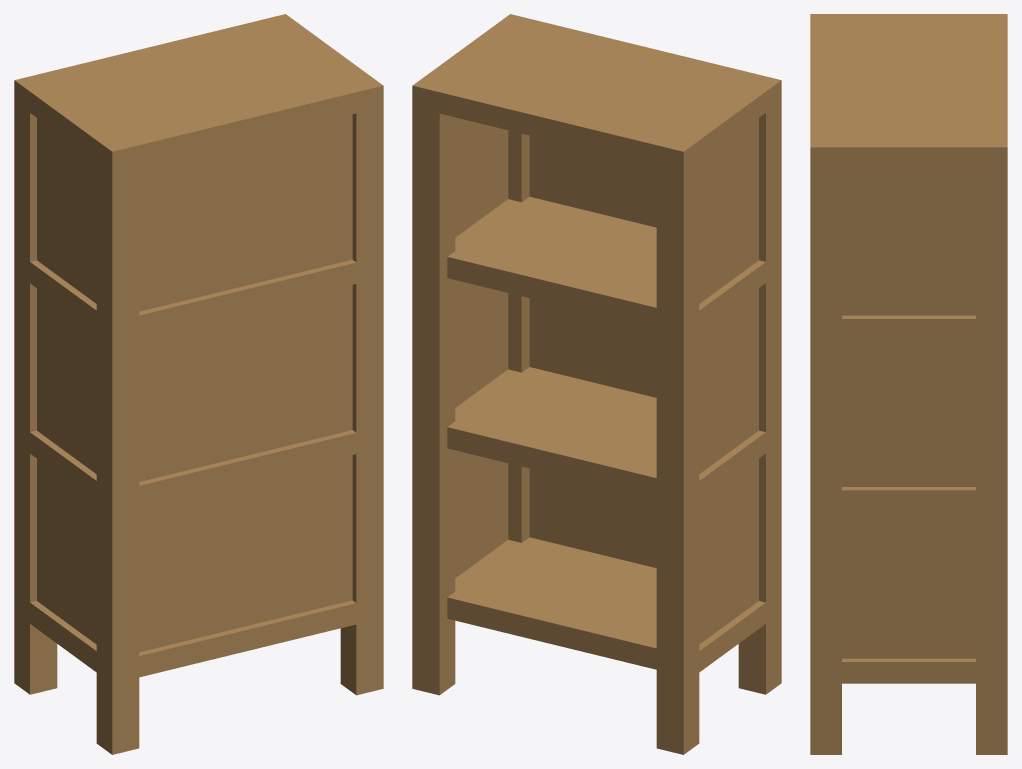
The model's file is bookcaseClosed.glb.
3 renders of one model, left to right at view 1: azimuth 30°, elevation 25°; view 2: azimuth 150°, elevation 25°; view 3: azimuth 270°, elevation 25°, orthographic.
Parts seen in each view (by area): view 1: bookcaseClosed; view 2: bookcaseClosed; view 3: bookcaseClosed.
Boxes of the visible parts, x1,y1,x2,y2 form: bookcaseClosed: (14,14,383,754); bookcaseClosed: (412,14,781,754); bookcaseClosed: (810,14,1007,754).
Bounding box in the file's own units: 0.8 × 1.7 × 0.5.
